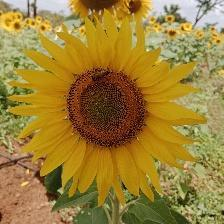sunflower: (6, 7, 210, 211)
